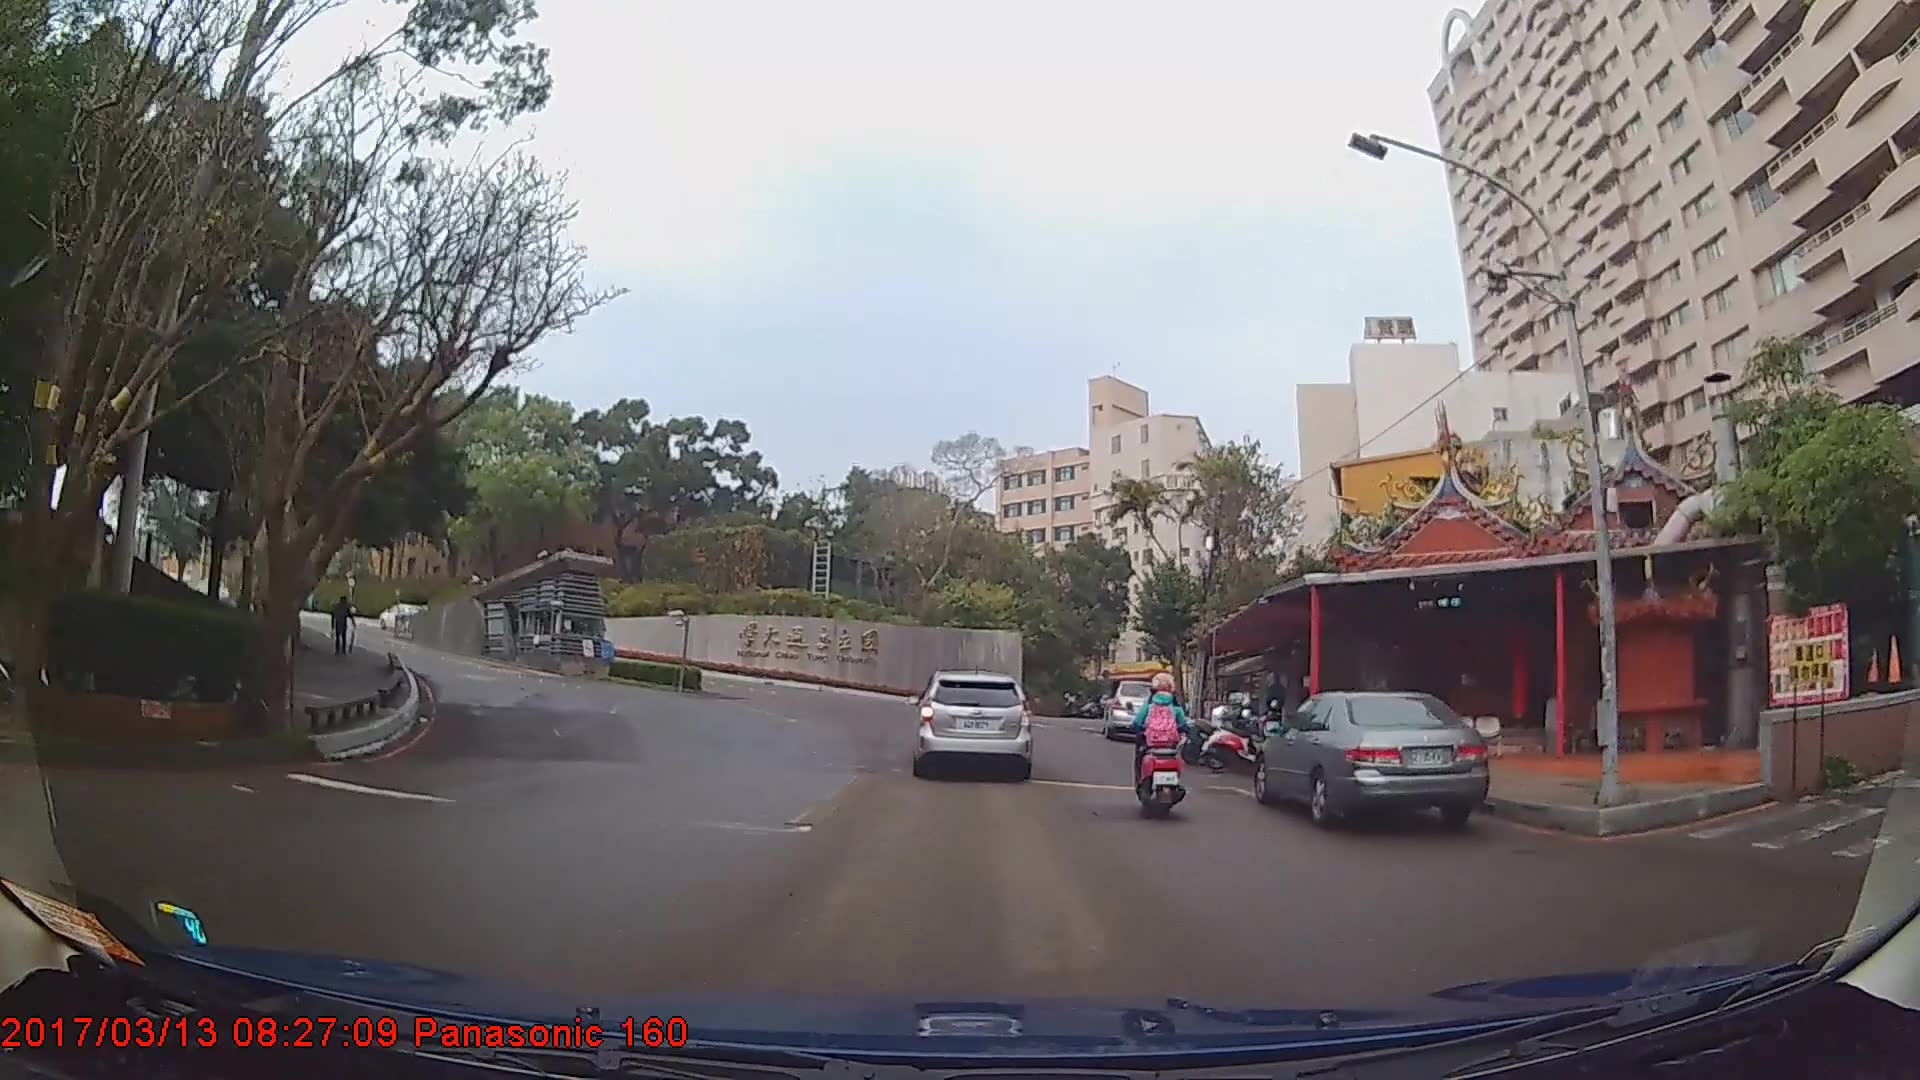pedestrian: (1265, 669, 1289, 734), (333, 595, 359, 656)
rider: (1130, 658, 1196, 813)
vehicle: (1254, 689, 1487, 825), (913, 668, 1030, 778), (1101, 679, 1167, 739), (376, 604, 432, 631)
